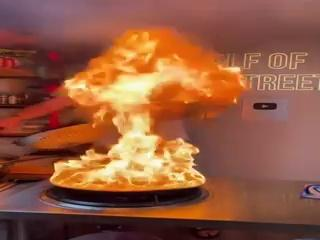Fire: (41, 46, 220, 192)
